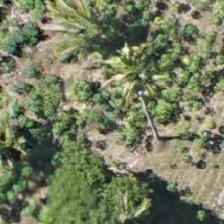coconut_tree: (98, 35, 188, 125), (52, 0, 142, 83), (0, 95, 49, 185)
